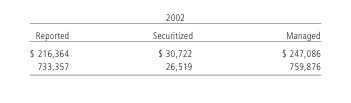table: (28, 29, 319, 71)
table column: (110, 29, 236, 71), (236, 29, 319, 71), (28, 29, 110, 71)
table column header: (28, 29, 319, 43)
table row: (28, 43, 319, 59), (28, 29, 319, 43), (28, 59, 319, 71)
